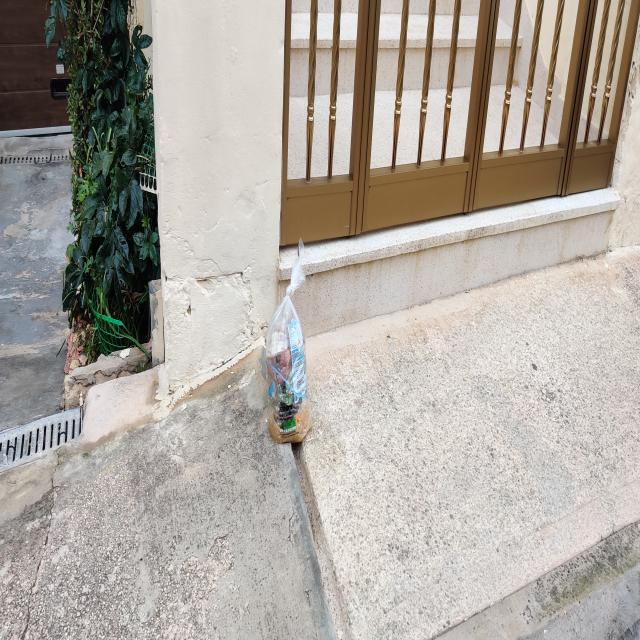Organic Waste -White Bags-: (264, 294, 313, 445)
